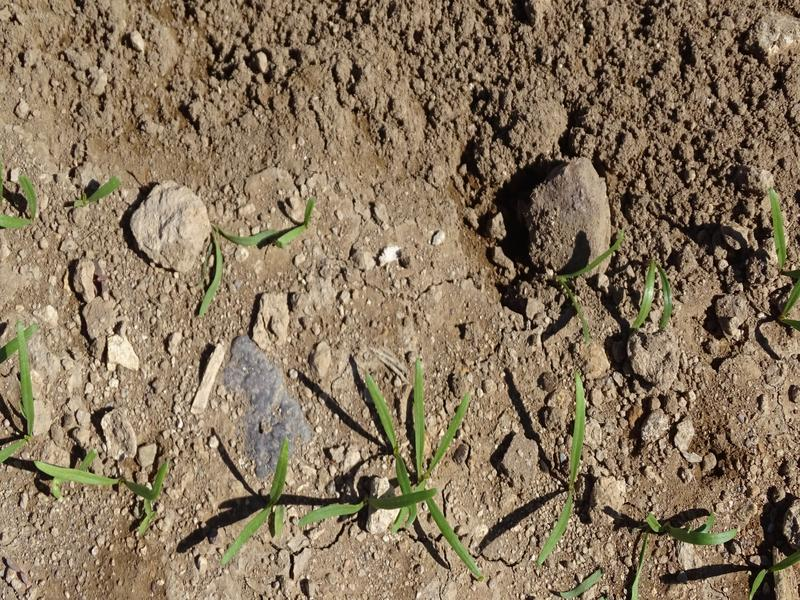Espinaca: (366, 369, 489, 578), (203, 199, 320, 313), (535, 377, 588, 565), (225, 441, 299, 560), (33, 459, 166, 523), (638, 502, 738, 551), (1, 323, 36, 459), (639, 248, 672, 329)
